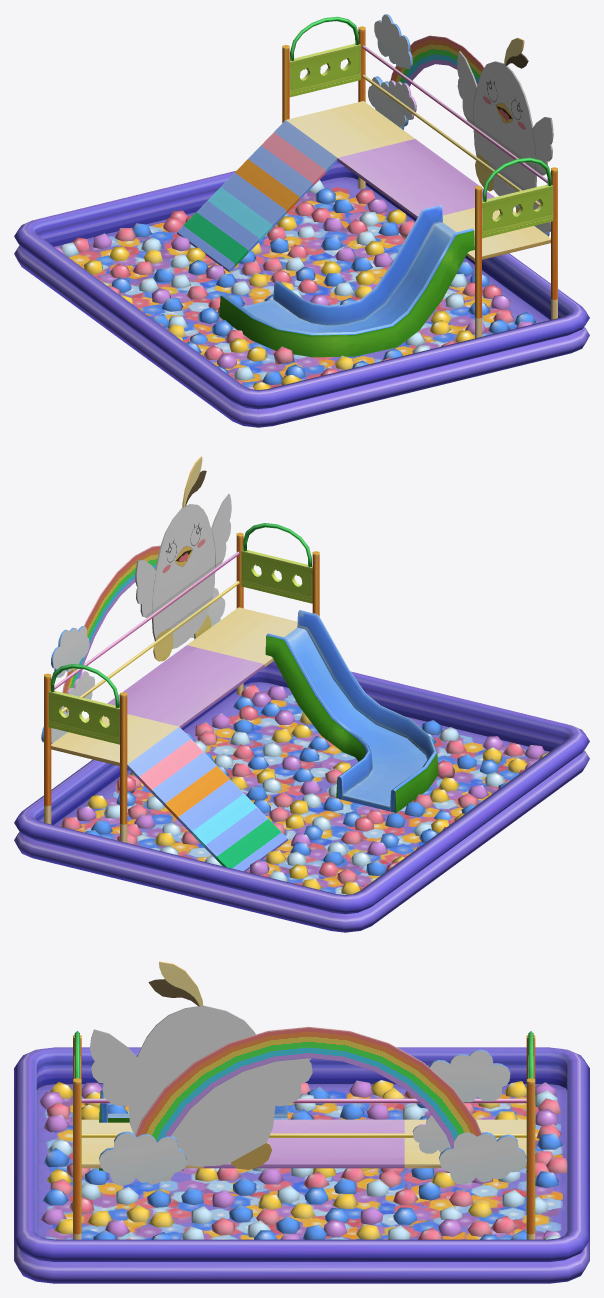
The model's file is my_shoppingmall_01_ballpool_01.glb.
3 views of the same model, one above another, from view 1: azimuth 30°, elevation 25°; view 2: azimuth 150°, elevation 25°; view 3: azimuth 270°, elevation 25° (orthographic). The views are drawn at different scales.
Visible parts, largest first — view 1: my_shoppingmall_01_ballpool_01; view 2: my_shoppingmall_01_ballpool_01; view 3: my_shoppingmall_01_ballpool_01.
Boxes of the visible parts, left/top/right/bottom form: my_shoppingmall_01_ballpool_01: left=14, top=14, right=589, bottom=427; my_shoppingmall_01_ballpool_01: left=14, top=456, right=589, bottom=932; my_shoppingmall_01_ballpool_01: left=14, top=961, right=589, bottom=1283.
Bounding box in the file's own units: 0.0327 × 0.0241 × 0.0389.
1 material, 1 textured.
